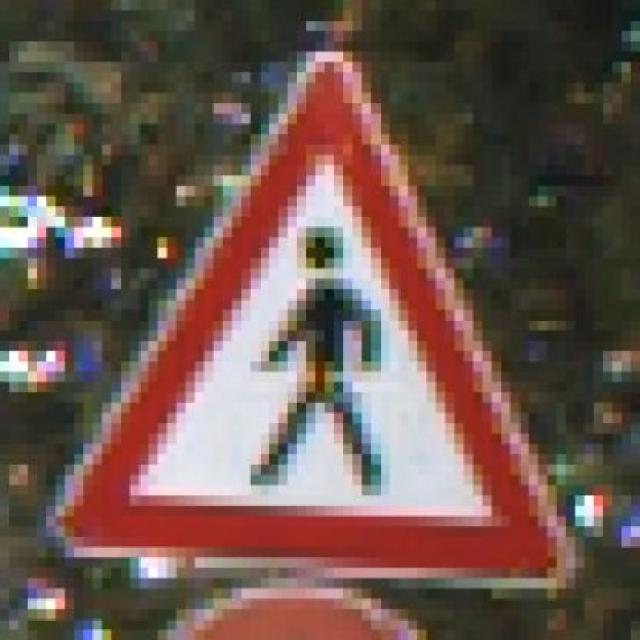Pedestrian Crossing: (65, 33, 593, 601)
